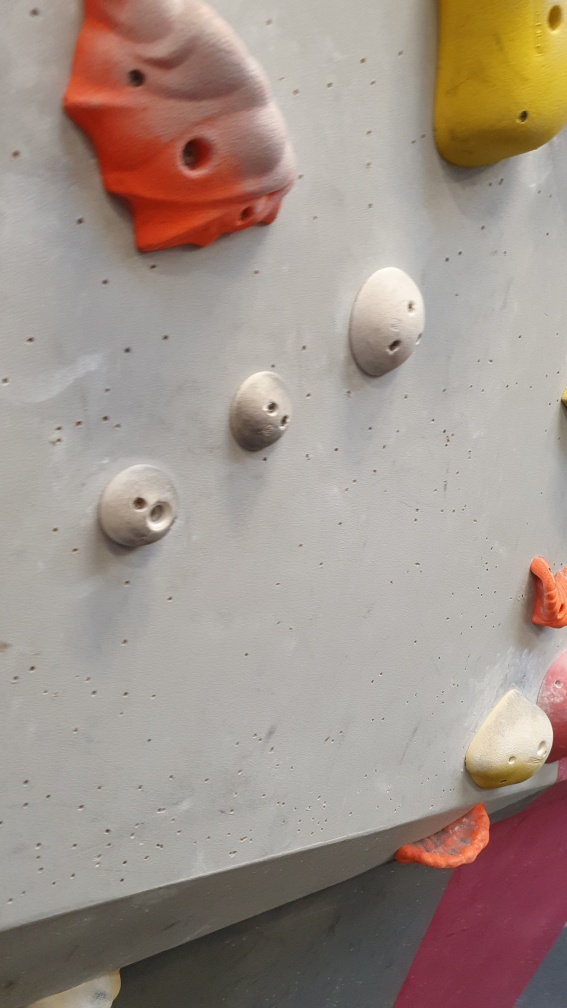Jug: (50, 1, 303, 267), (388, 801, 494, 872), (520, 552, 567, 630)
Sloper: (344, 259, 430, 382), (97, 462, 183, 552), (225, 368, 294, 457)
